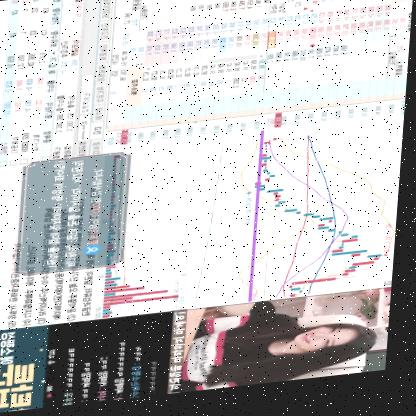donation: (17, 152, 136, 280)
streamer: (190, 308, 386, 397)
